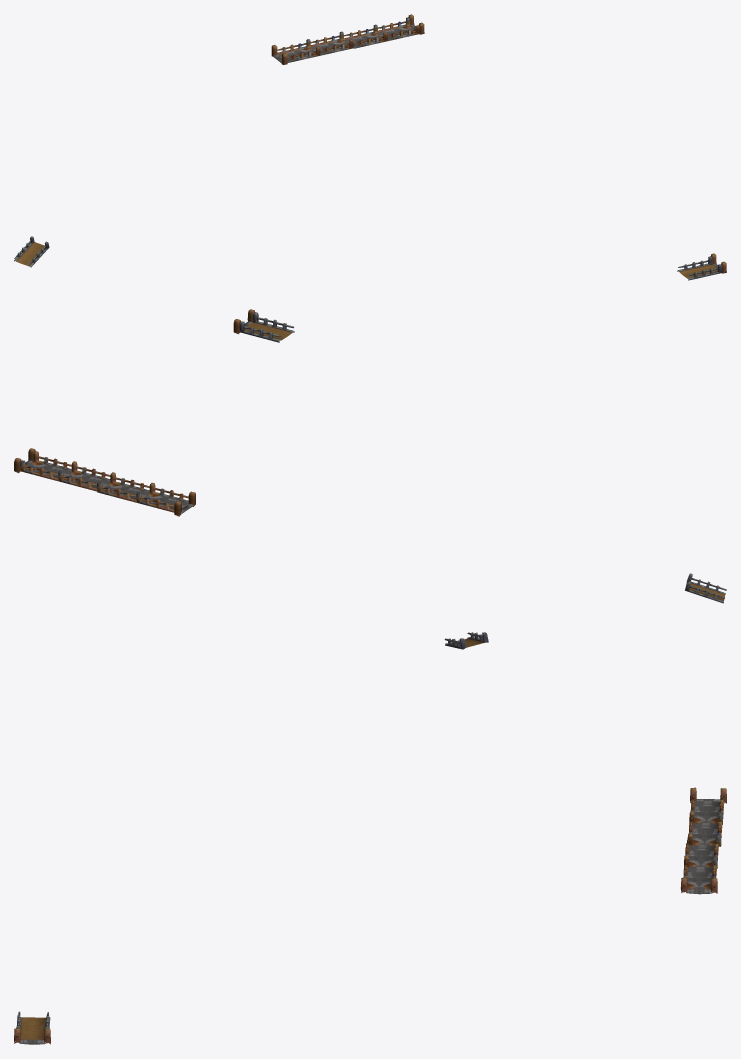
File: Bridge.FBX
3 renders of one model, top to bottom at view 1: azimuth 30°, elevation 25°; view 2: azimuth 150°, elevation 25°; view 3: azimuth 270°, elevation 25°, orthographic. The views are drawn at different scales.
Parts seen in each view (by area): view 1: Bridge_Low005, Bridge_Low003, Bridge_Low001, Bridge_Low006, Bridge_Low004, Bridge_Low; view 2: Bridge_Low005, Bridge_Low001, Bridge_Low003, Bridge_Low004, Bridge_Low, Bridge_Low006; view 3: Bridge_Low001, Bridge_Low, Bridge_Low003, Bridge_Low005, Bridge_Low004.
Part boxes in pixels (x1,y1,x2,y2): Bridge_Low005: (677, 256, 722, 280); Bridge_Low003: (344, 24, 387, 48); Bridge_Low001: (310, 31, 353, 55); Bridge_Low006: (14, 236, 49, 267); Bridge_Low004: (377, 17, 419, 40); Bridge_Low: (277, 39, 320, 62); Bridge_Low005: (239, 312, 294, 342); Bridge_Low001: (97, 472, 149, 502); Bridge_Low003: (58, 461, 110, 491); Bridge_Low004: (20, 451, 72, 481); Bridge_Low: (136, 482, 188, 512); Bridge_Low006: (685, 573, 726, 603); Bridge_Low001: (687, 817, 722, 846); Bridge_Low: (689, 795, 724, 824); Bridge_Low003: (684, 839, 718, 868); Bridge_Low005: (16, 1011, 50, 1039); Bridge_Low004: (682, 861, 716, 889).
Bounding box in the file's own units: 590 × 91.31 × 477.
